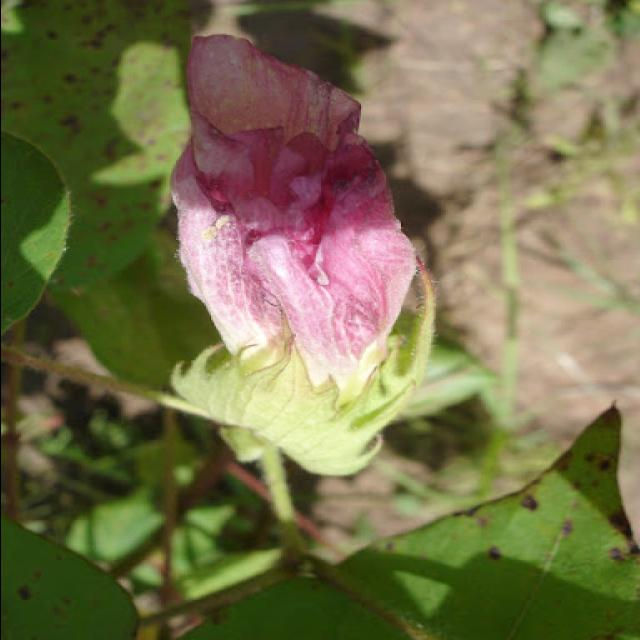Cotton Blossom: (150, 30, 447, 470)
